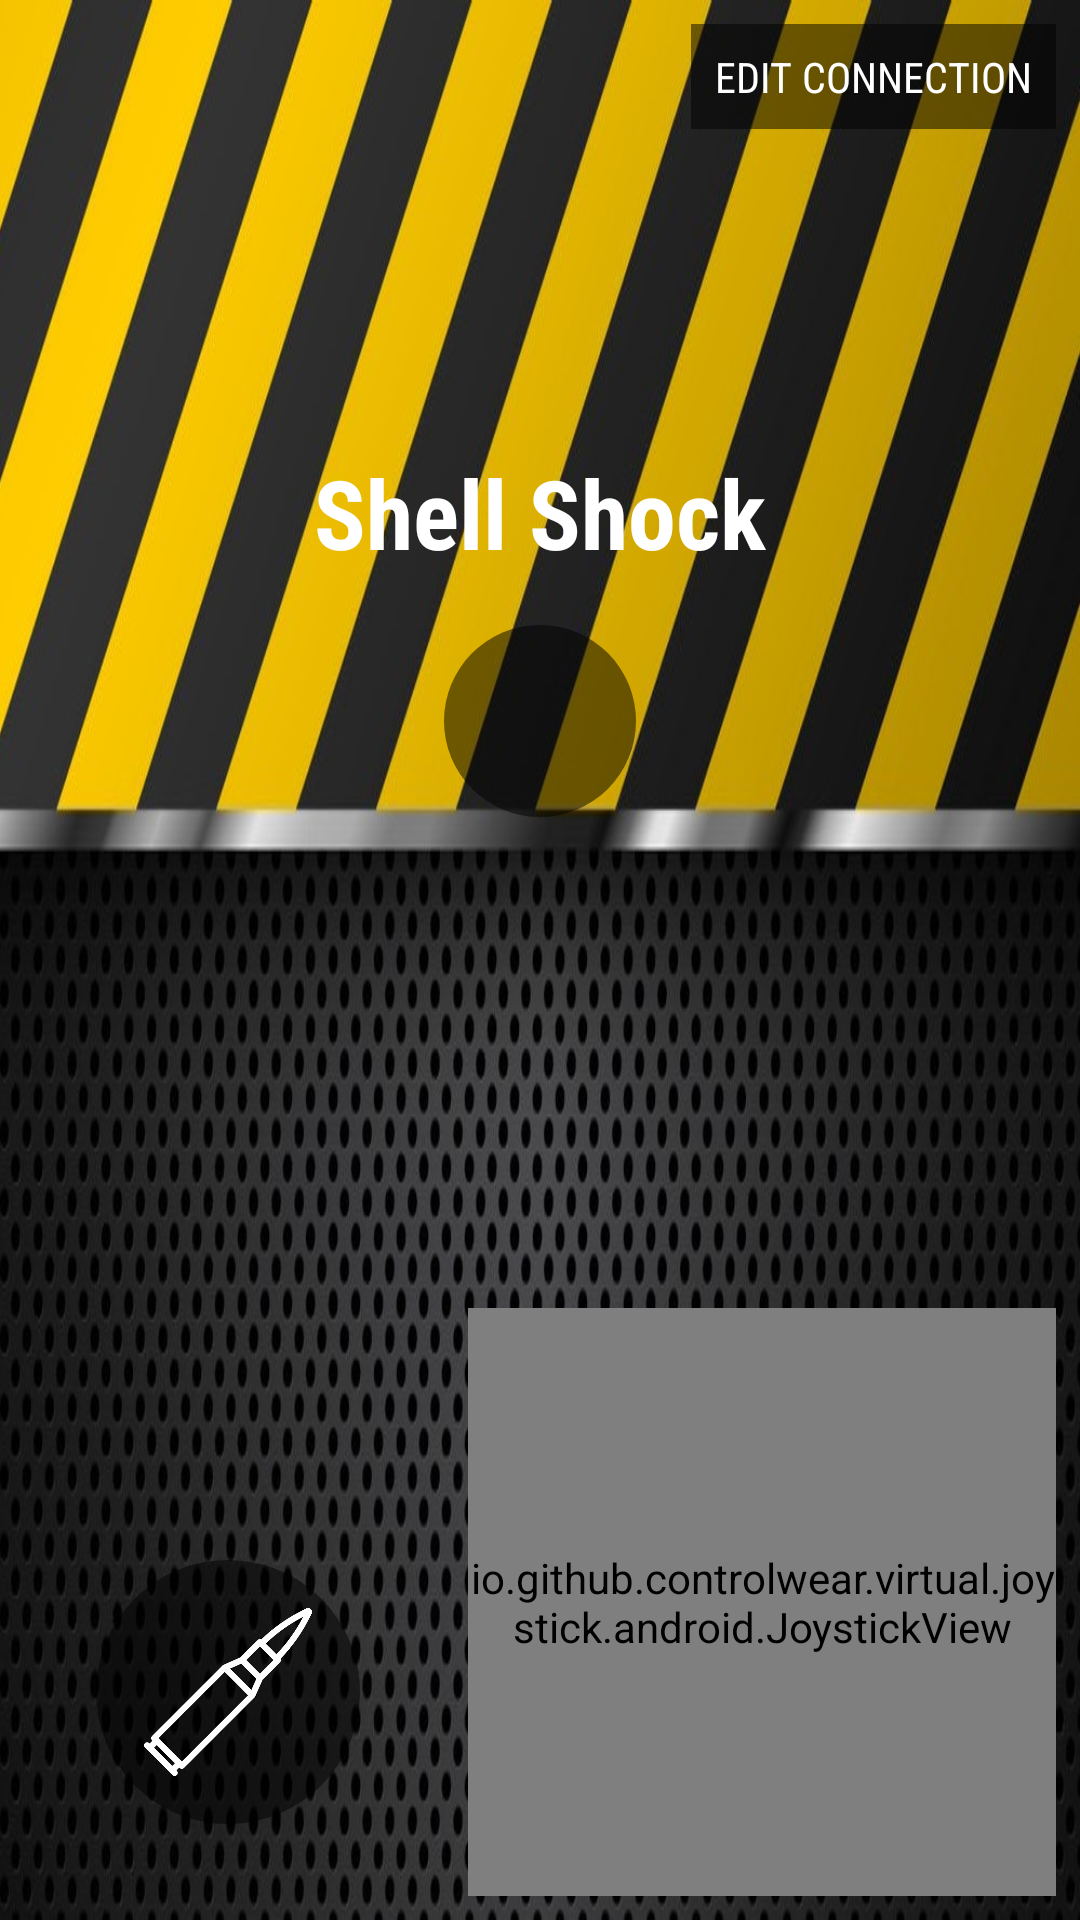

Icon bounding boxes for this 1080w x 1920h phone screenshot, format (x1, y1, x2, y2):
bullet: (96, 1560, 360, 1824)
